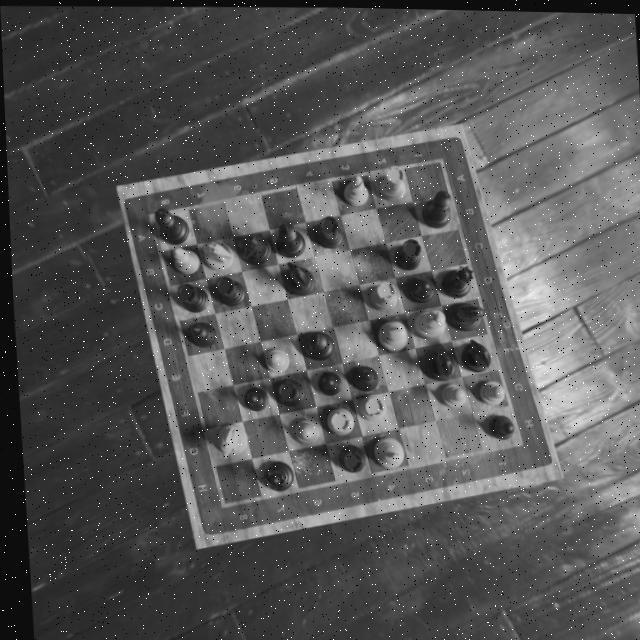chessboard: (151, 158, 519, 505)
